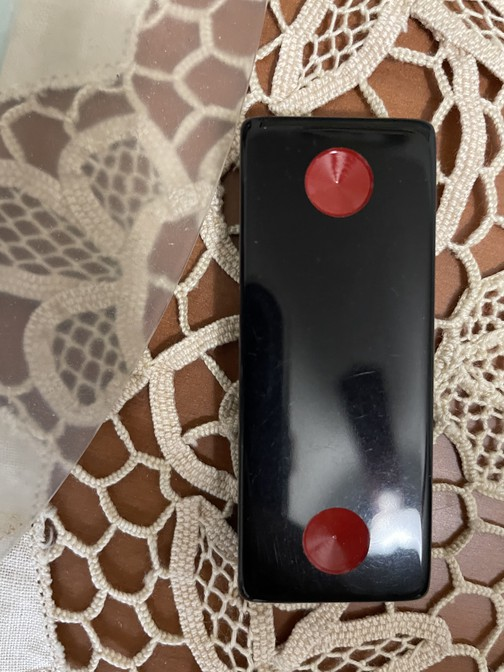earth: (238, 118, 433, 601)
